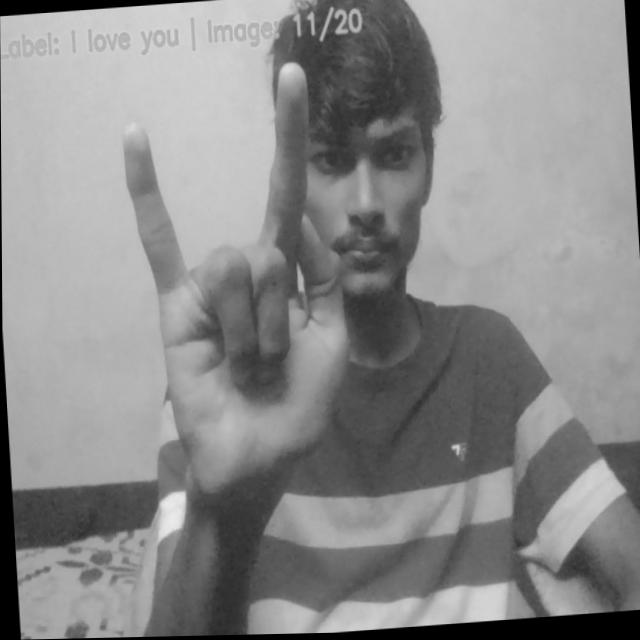I love you: (118, 59, 354, 503)
